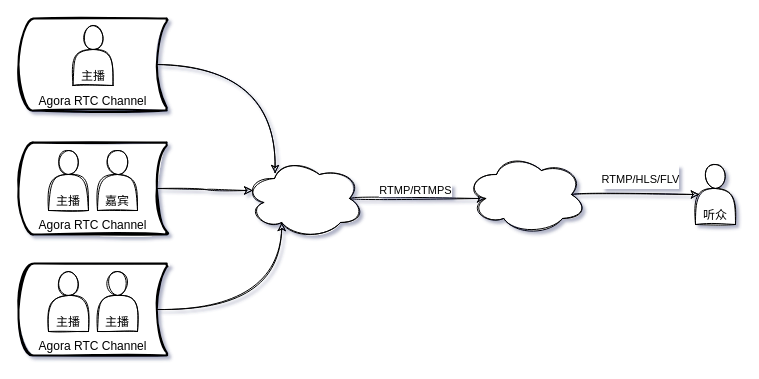
Some shapes in this 759 by 379 pixel diagram are drawn without their labels. The shapes that lost their labels are listed below. From the top down, each one's box as (x1, y1, x2, y2) in pixels, then its label:
(244, 158, 364, 238): Agora SD-RTN
(466, 154, 586, 234): 融合 CDN
